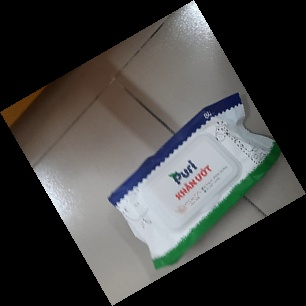Puri Trang: (104, 89, 285, 273)
